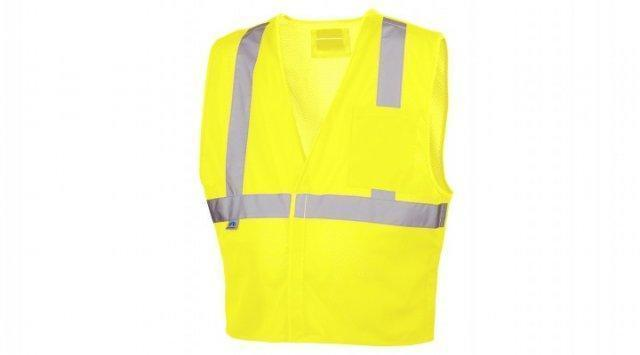Glass: (186, 2, 466, 339)
